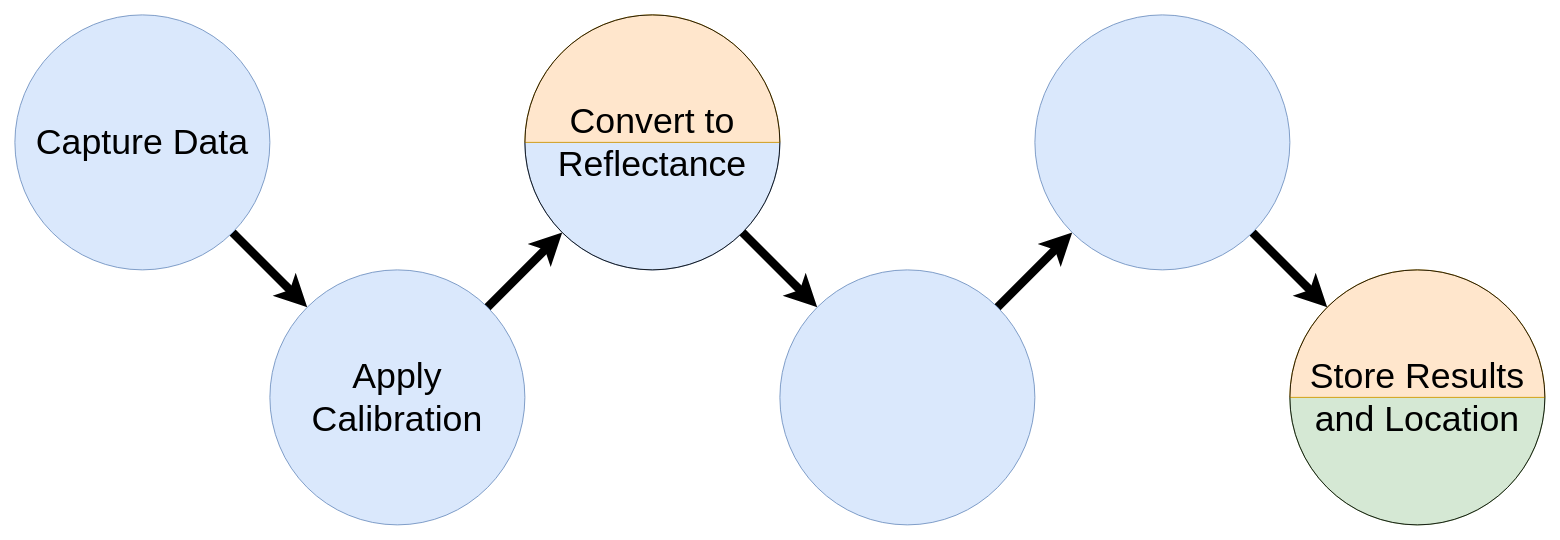
Some shapes in this 1560 by 540 pixel diagram are drawn without their labels. The centre of each missing label's shape, as x and y in pixels:
"Bin Wavelengths" goes at point (907, 397).
"Run Machine Learning Inference" goes at point (1162, 142).
